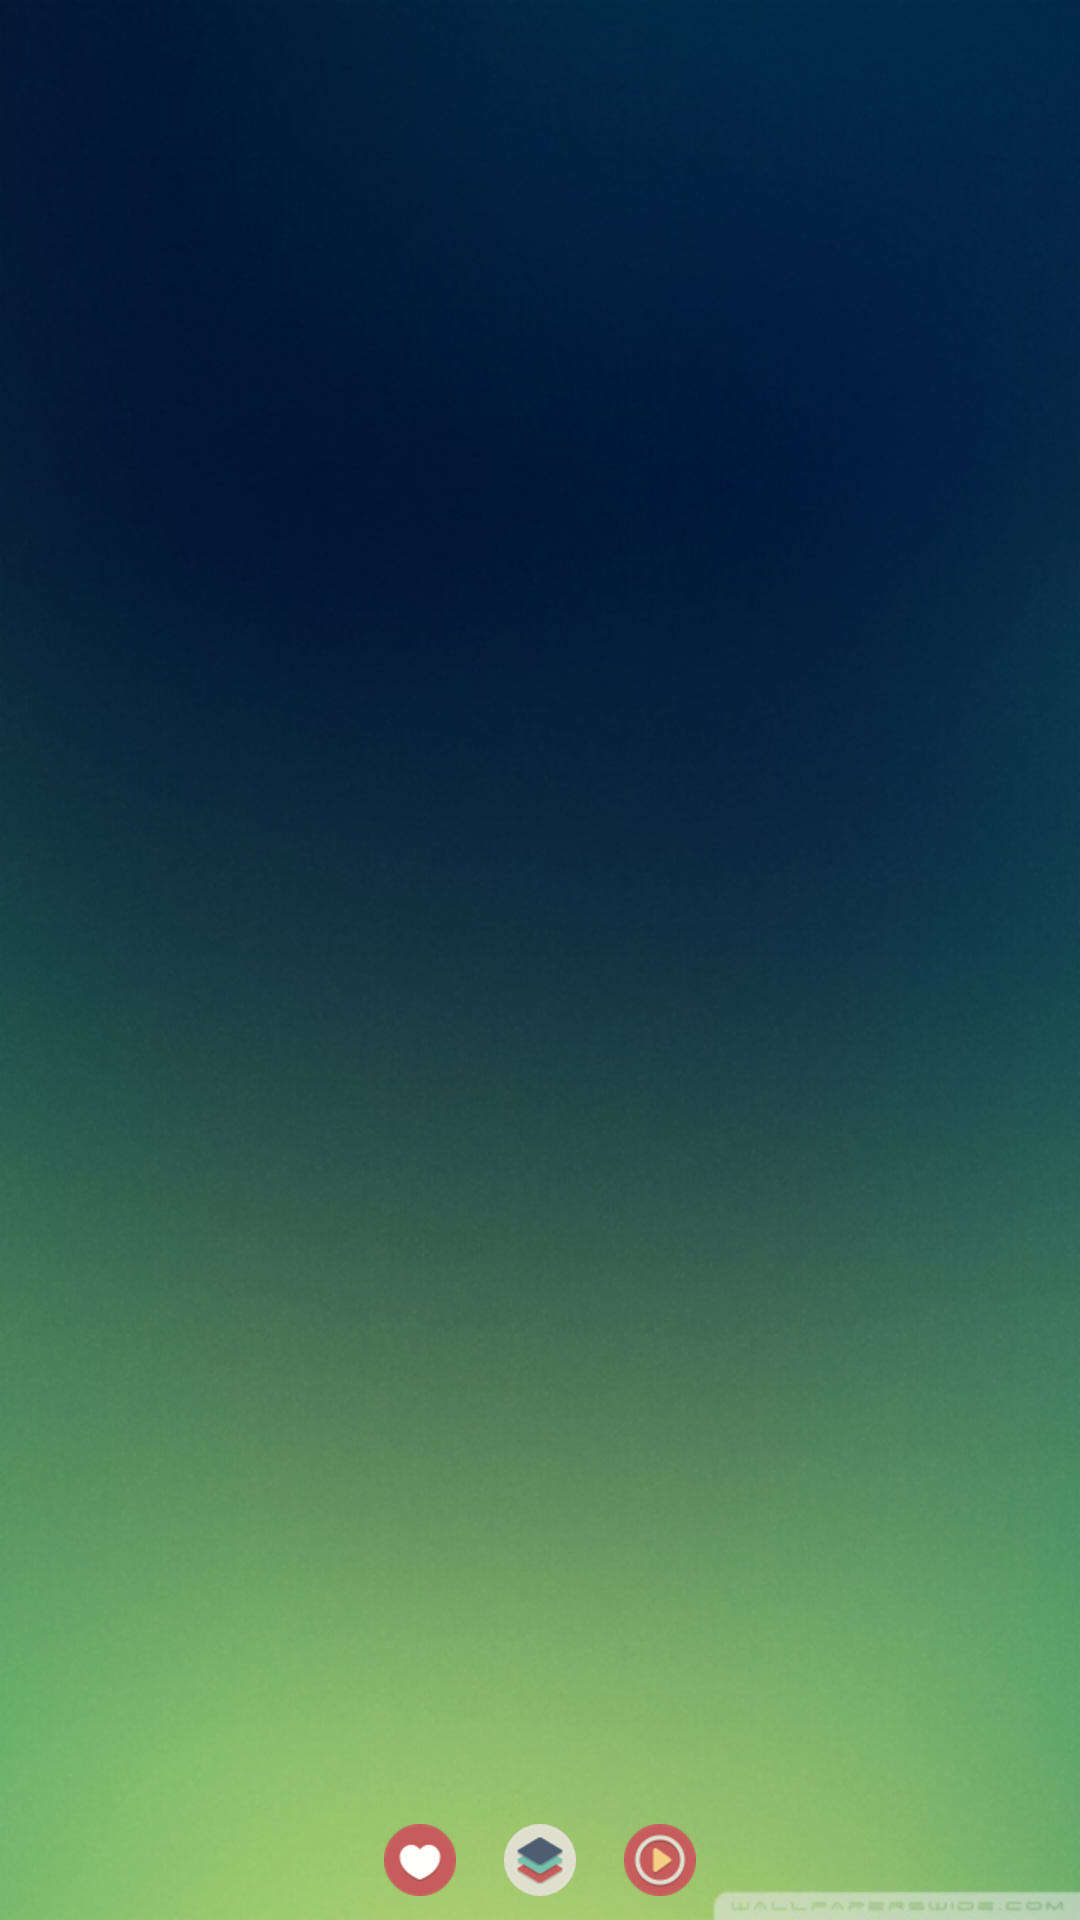

Where icons sit on this 1080 x 1920 app screen, as (x1, y1, x2, y2):
favourite: (384, 1824, 456, 1896)
play: (624, 1824, 696, 1896)
